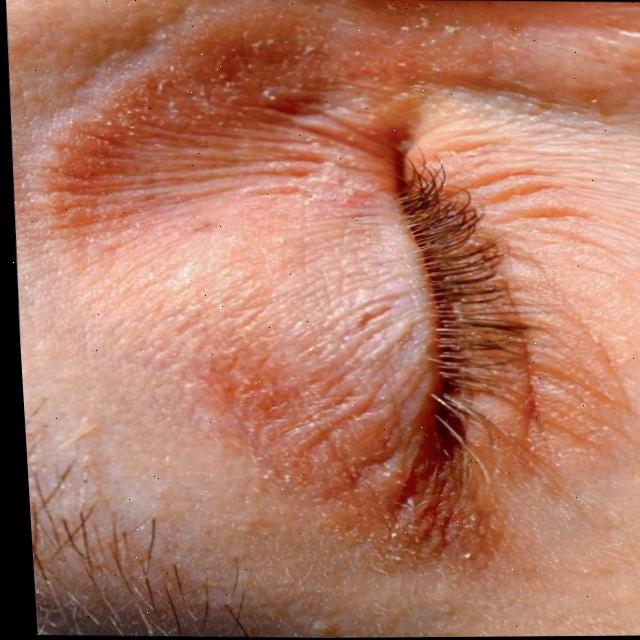Eczema: (98, 37, 452, 559)
